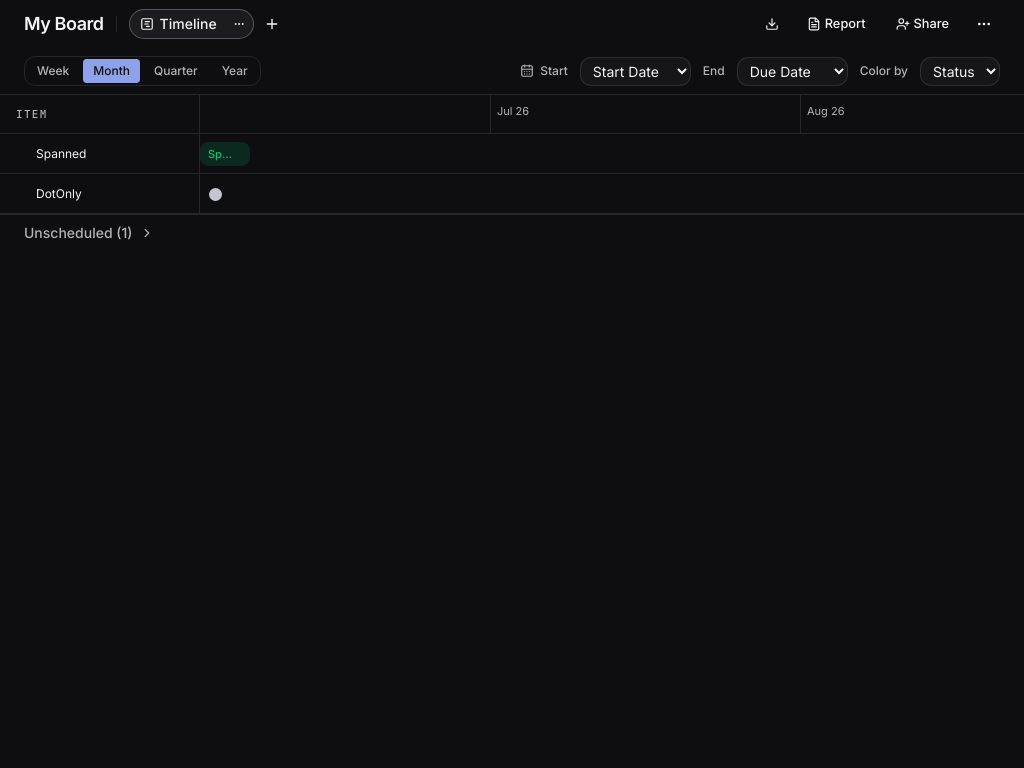
Test: GanttBoard — quick-edit peek › opens the quick-edit peek when a bar is clicked
Click the button labelled "Spanned" at (231, 154), box [208,147,255,161]
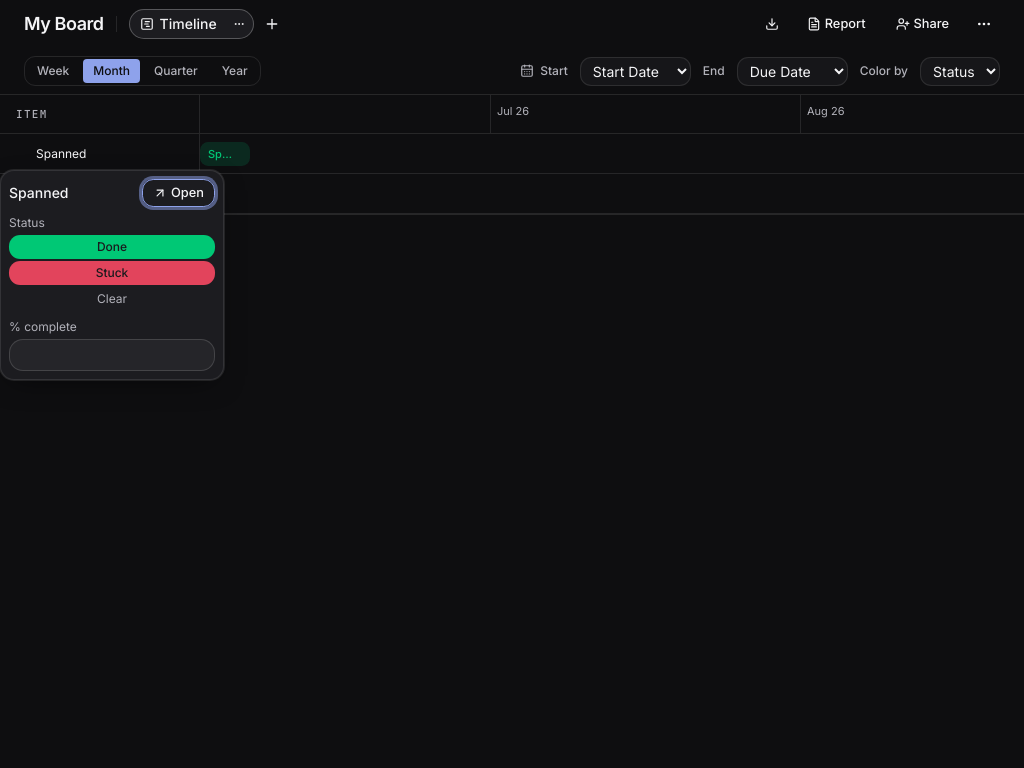
Expected: the dialog named "Edit Spanned" is shown, [0,170,224,380]
